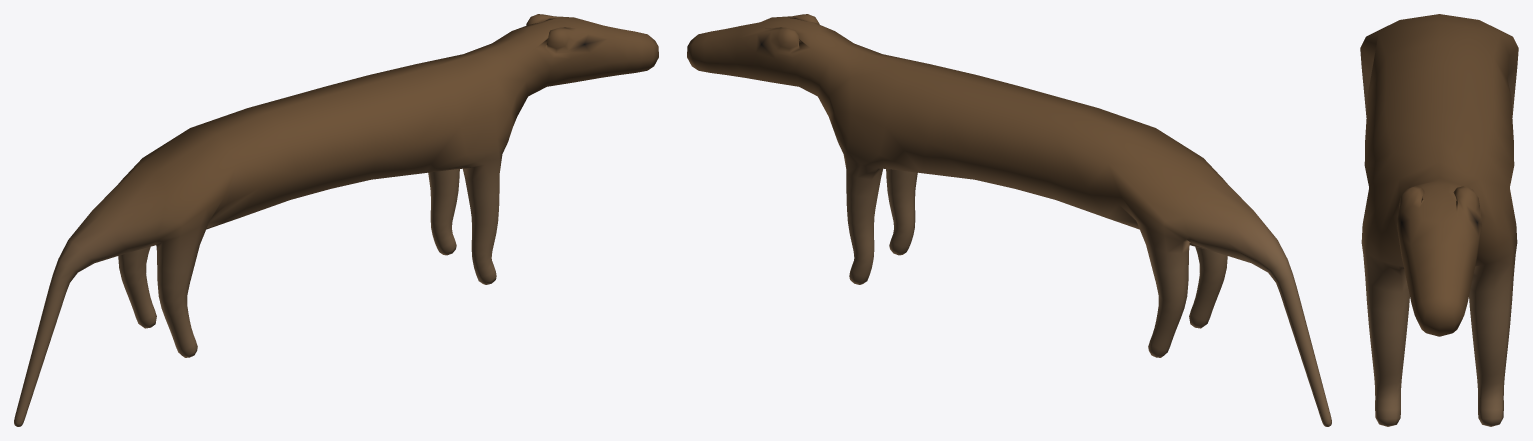
File: coati.glb
3 renders of one model, left to right at view 1: azimuth 30°, elevation 25°; view 2: azimuth 150°, elevation 25°; view 3: azimuth 270°, elevation 25°, orthographic. The views are drawn at different scales.
Visible parts, largest first — view 1: coati; view 2: coati; view 3: coati.
Part boxes in pixels (box(x1,y1,x2,y2)): coati: box(14, 14, 658, 426); coati: box(687, 14, 1331, 426); coati: box(1360, 14, 1518, 426).
Size of the model in its own units: 1.48 by 0.6057 by 0.2485.
